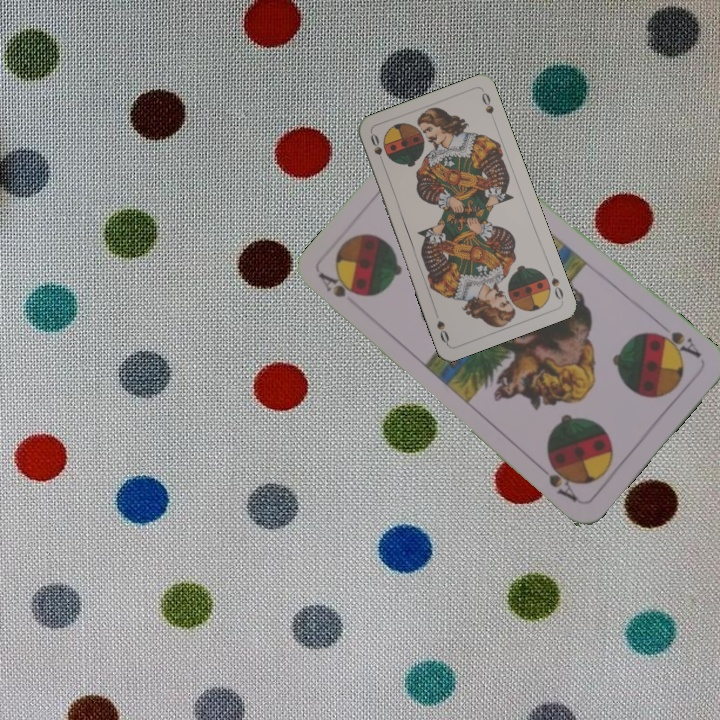SA: (650, 327, 704, 361), (315, 269, 360, 300)
SO: (366, 129, 387, 169), (545, 264, 566, 303)
